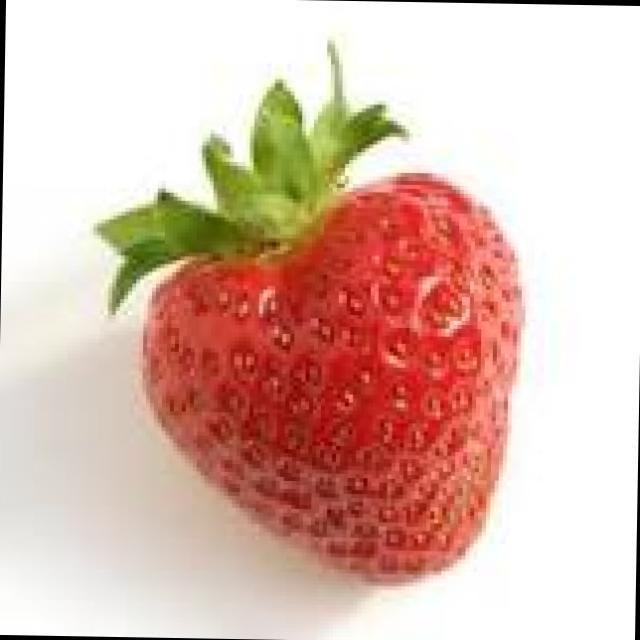Strawberry: (83, 48, 541, 588)
